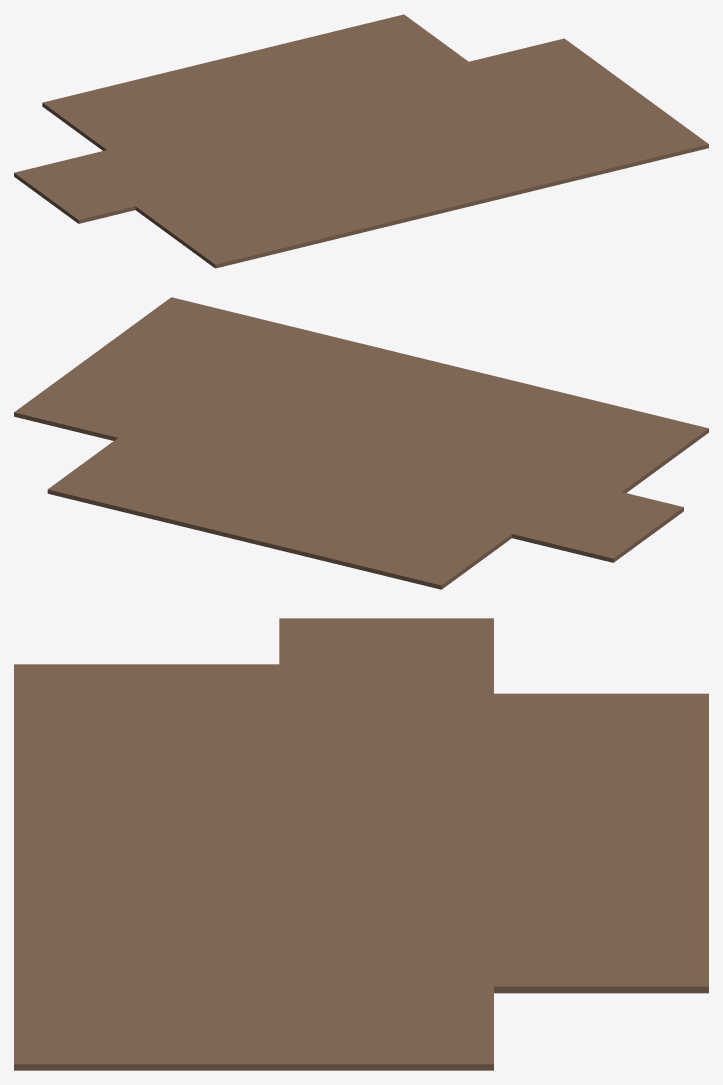
Rendered from E_Techo.fbx.
3 views of the same model, one above another, from view 1: azimuth 30°, elevation 25°; view 2: azimuth 150°, elevation 25°; view 3: azimuth 270°, elevation 25° (orthographic). The views are drawn at different scales.
Parts seen in each view (by area): view 1: Techo; view 2: Techo; view 3: Techo.
Part boxes in pixels (left/top/right/bottom): Techo: left=14, top=14, right=708, bottom=268; Techo: left=14, top=297, right=708, bottom=589; Techo: left=14, top=618, right=708, bottom=1070.
Bounding box in the file's own units: 2889 × 19.61 × 1902.
